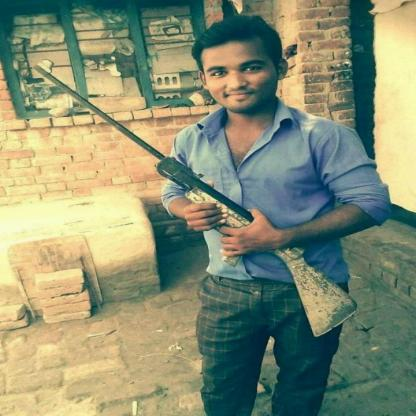rifle: (31, 56, 361, 340)
